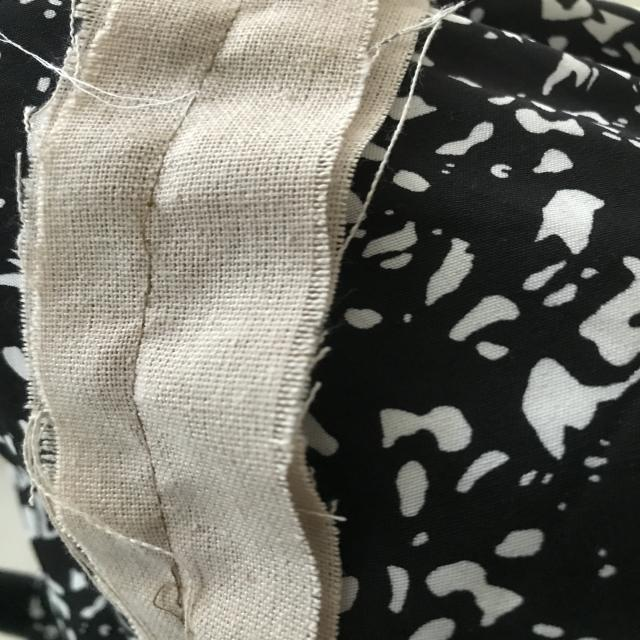skip: (121, 188, 171, 257)
